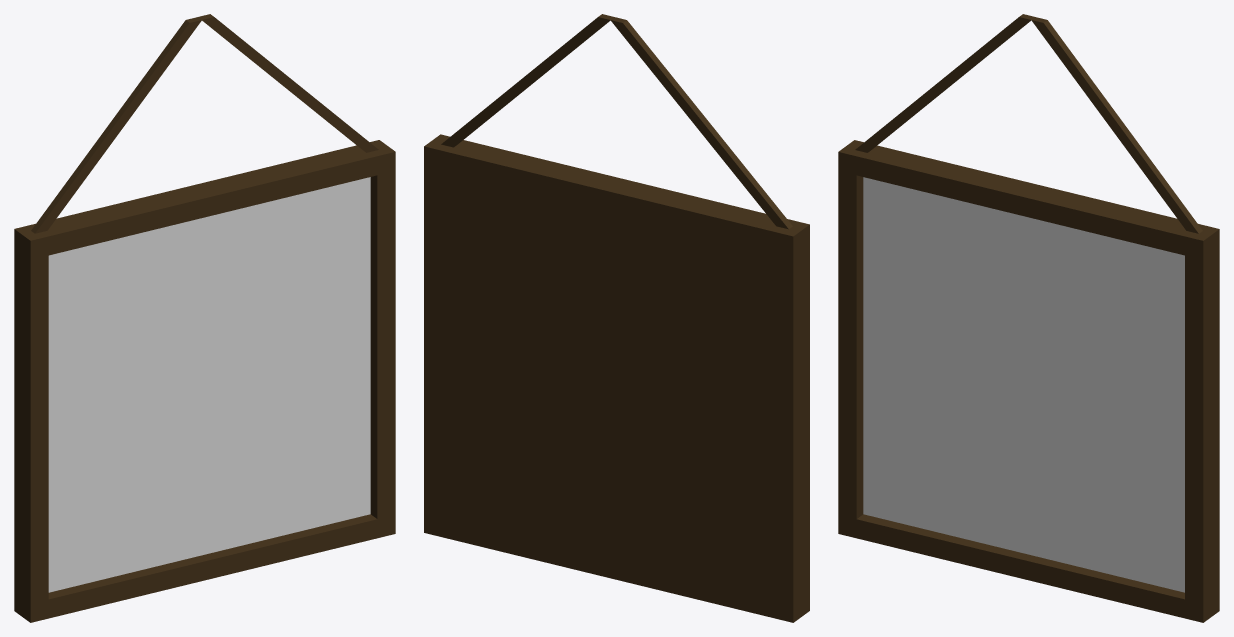
File: cuadro-cuadrado-madera.fbx
The picture shows the model from 3 angles, left to right: view 1: azimuth 30°, elevation 25°; view 2: azimuth 150°, elevation 25°; view 3: azimuth 330°, elevation 25°; orthographic projection.
Visible parts, largest first — view 1: Cube; view 2: Cube; view 3: Cube.
Boxes of the visible parts, bbox=[...] form: Cube: bbox=[14, 14, 395, 622]; Cube: bbox=[424, 14, 809, 622]; Cube: bbox=[838, 14, 1219, 622].
Bounding box in the file's own units: 41.47 × 59.76 × 3.2.
